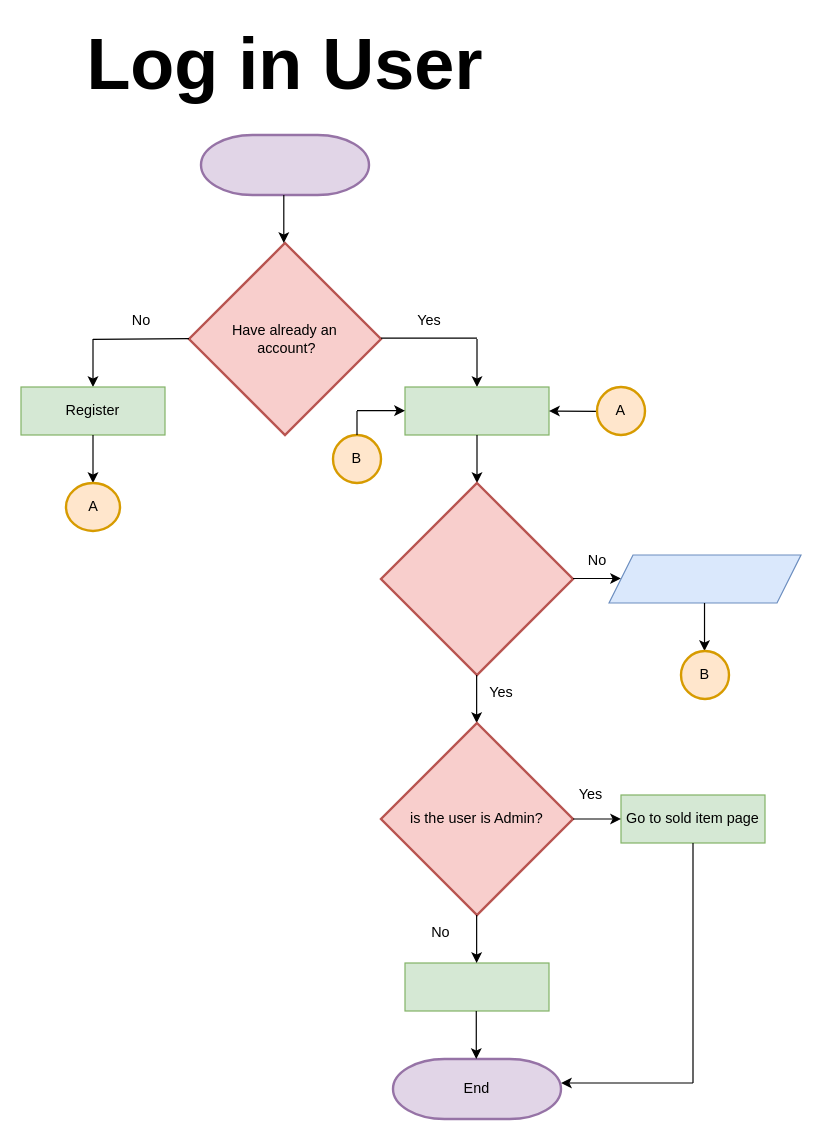
Image size: 822x1140. Some labels were removed from this diagram. Each missing label, with the box of its shape:
are the username & password are correct?: (379, 481, 574, 676)
Go to sales page: (404, 962, 549, 1011)
Login: (404, 386, 549, 435)
Output "Username or Password is incorrect".: (608, 554, 801, 603)
Start: (199, 133, 370, 196)
